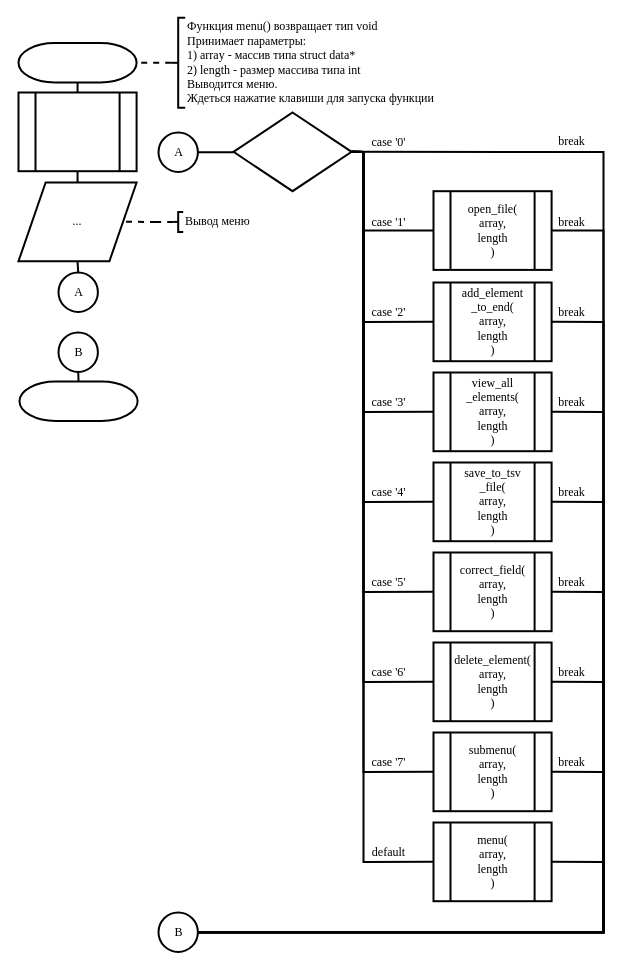
This 622x971 diagram has some shape labels left out. Here are the shapes that lost their labels. From the top down, the centre of each, then its label:
the point at 77,62: void menu()
the point at 77,131: clear_console()
the point at 292,151: getch()
the point at 78,400: Конец
